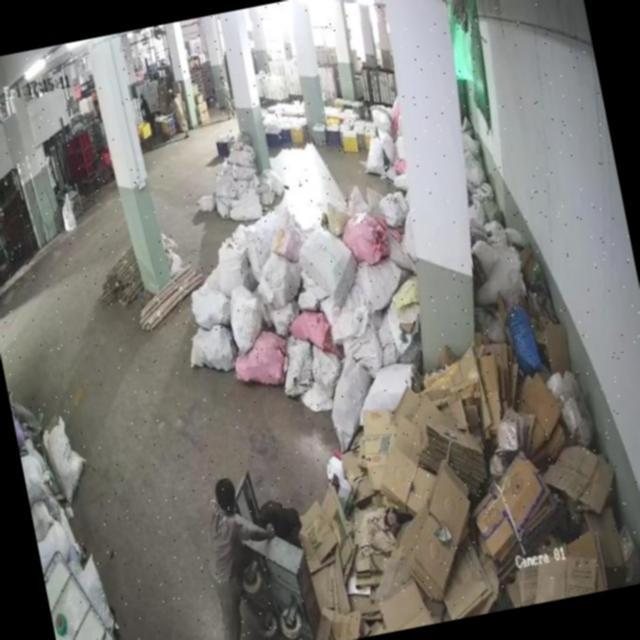person: (192, 469, 269, 640), (168, 94, 192, 143), (218, 75, 236, 119), (139, 94, 157, 136)
